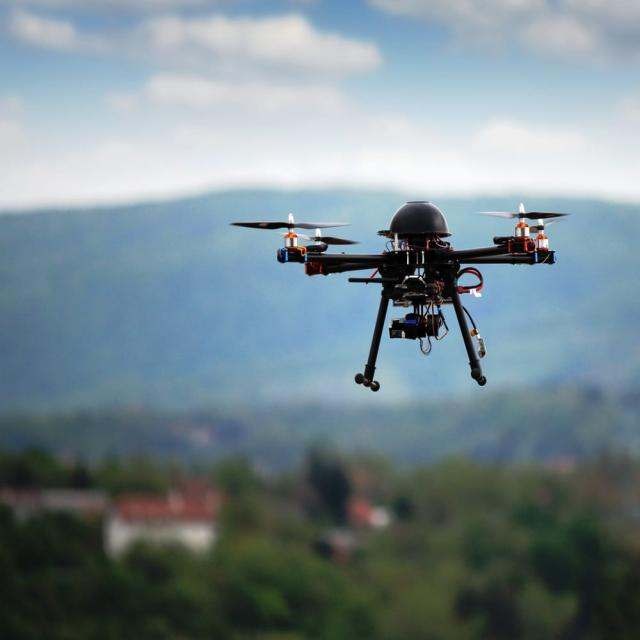drone: (226, 193, 572, 394)
